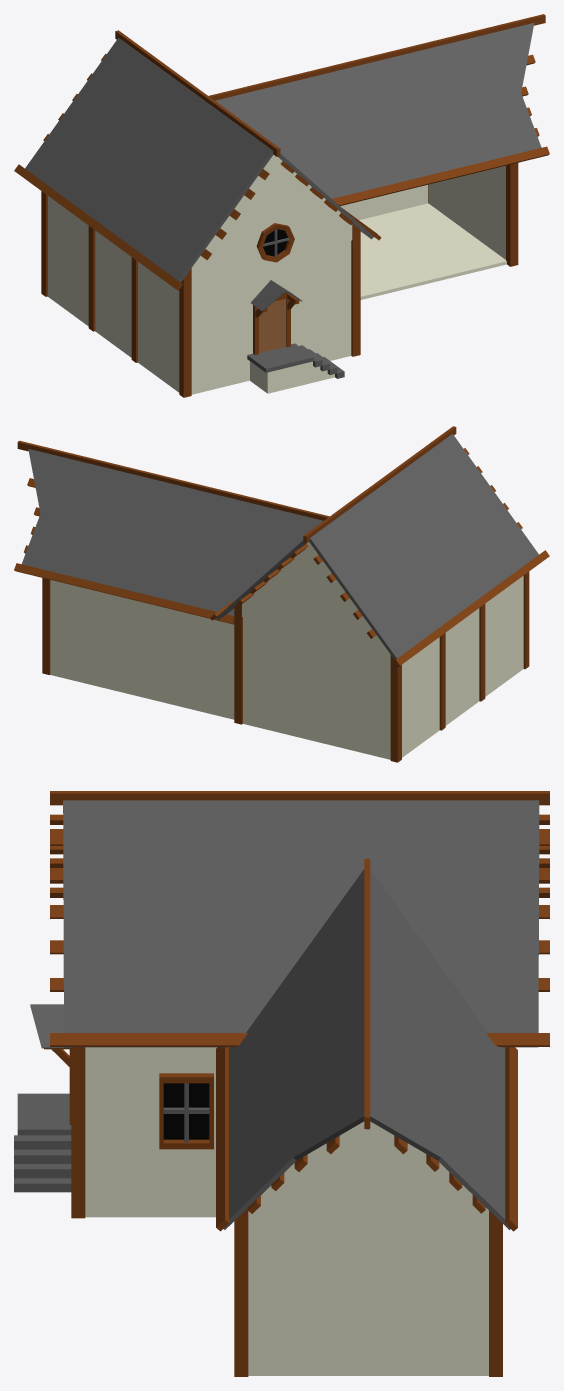
The model's file is Blacksmith.fbx.
3 renders of one model, top to bottom at view 1: azimuth 30°, elevation 25°; view 2: azimuth 150°, elevation 25°; view 3: azimuth 270°, elevation 25°, orthographic. The views are drawn at different scales.
Parts seen in each view (by area): view 1: Blacksmith; view 2: Blacksmith; view 3: Blacksmith.
Boxes of the visible parts, box(x1,y1,x2,y2) form: Blacksmith: box(14, 14, 549, 397); Blacksmith: box(14, 426, 549, 762); Blacksmith: box(14, 791, 549, 1376).
Bounding box in the file's own units: 2587 × 1220 × 1649.
